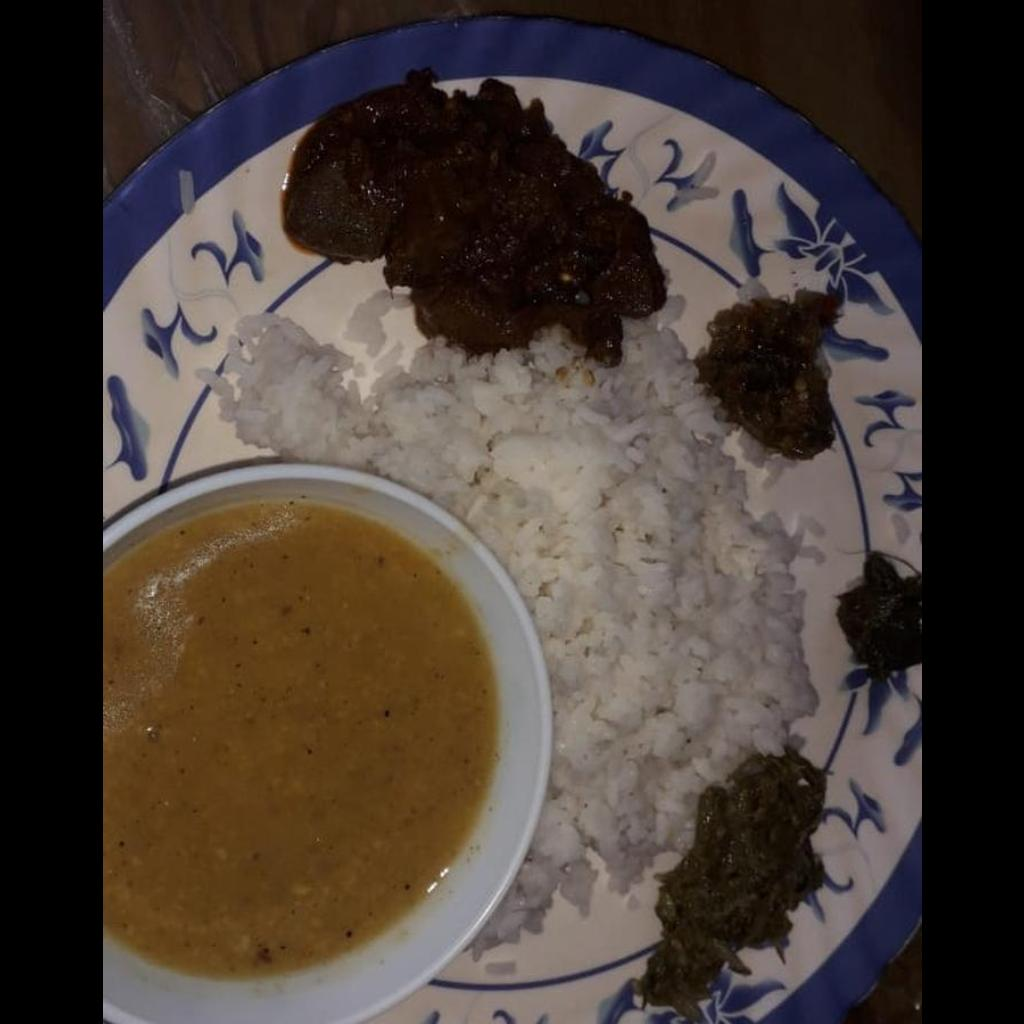daal: (102, 504, 498, 986)
rice: (202, 313, 813, 954)
vorta: (278, 83, 667, 347), (638, 760, 827, 1004)
